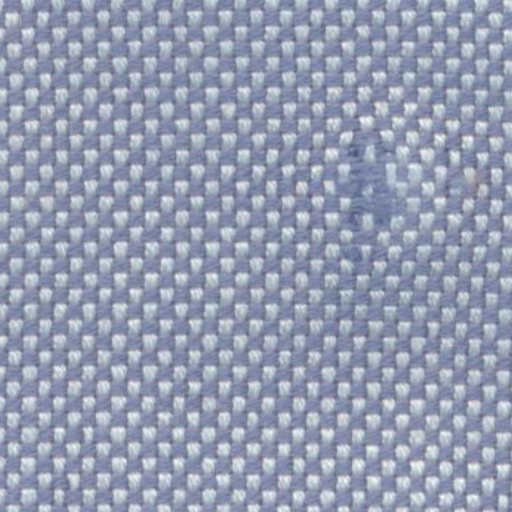DaiSha: (332, 118, 409, 266)
